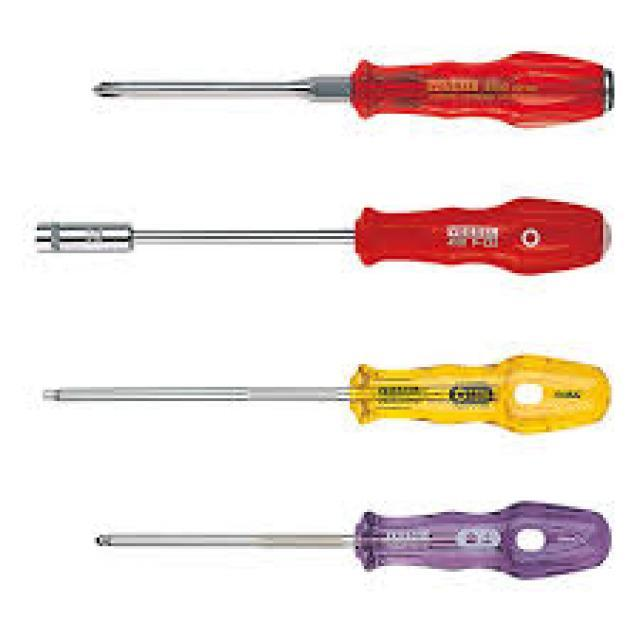screwdriver: (24, 192, 616, 280), (66, 40, 622, 131), (68, 494, 614, 584), (42, 353, 614, 438)
